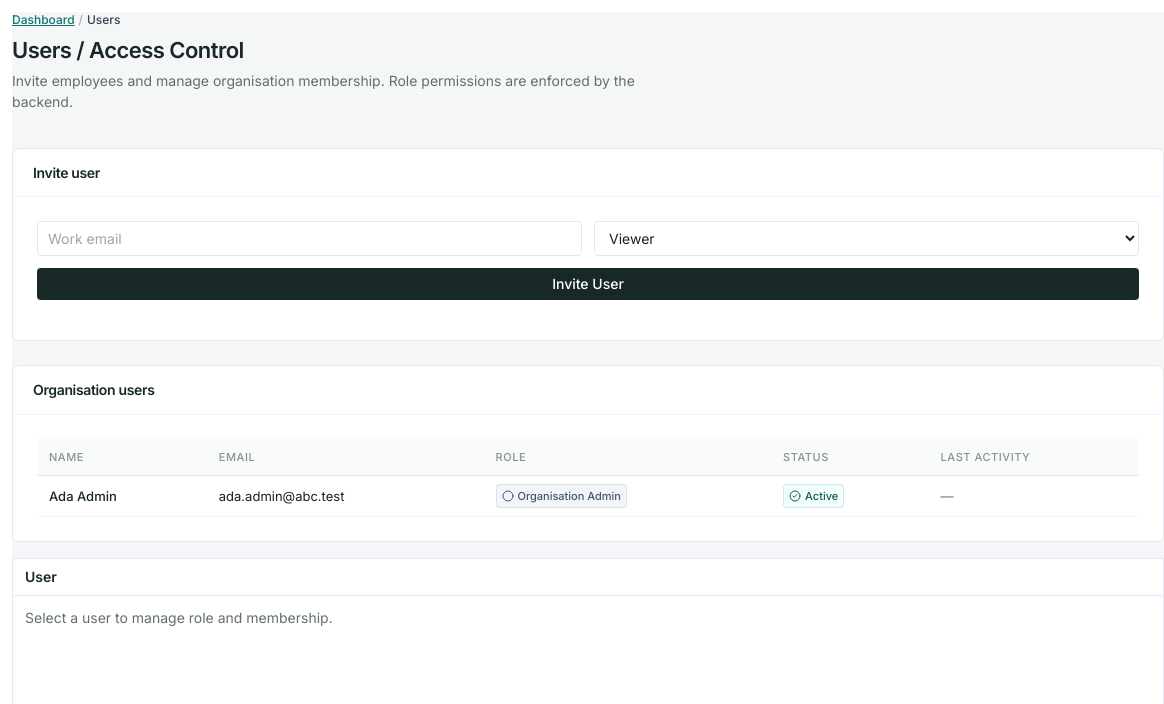
Test: organisation onboarding UI › last-admin protection shows the backend message
Click the text "Ada Admin": (122, 496) [37, 475, 207, 516]
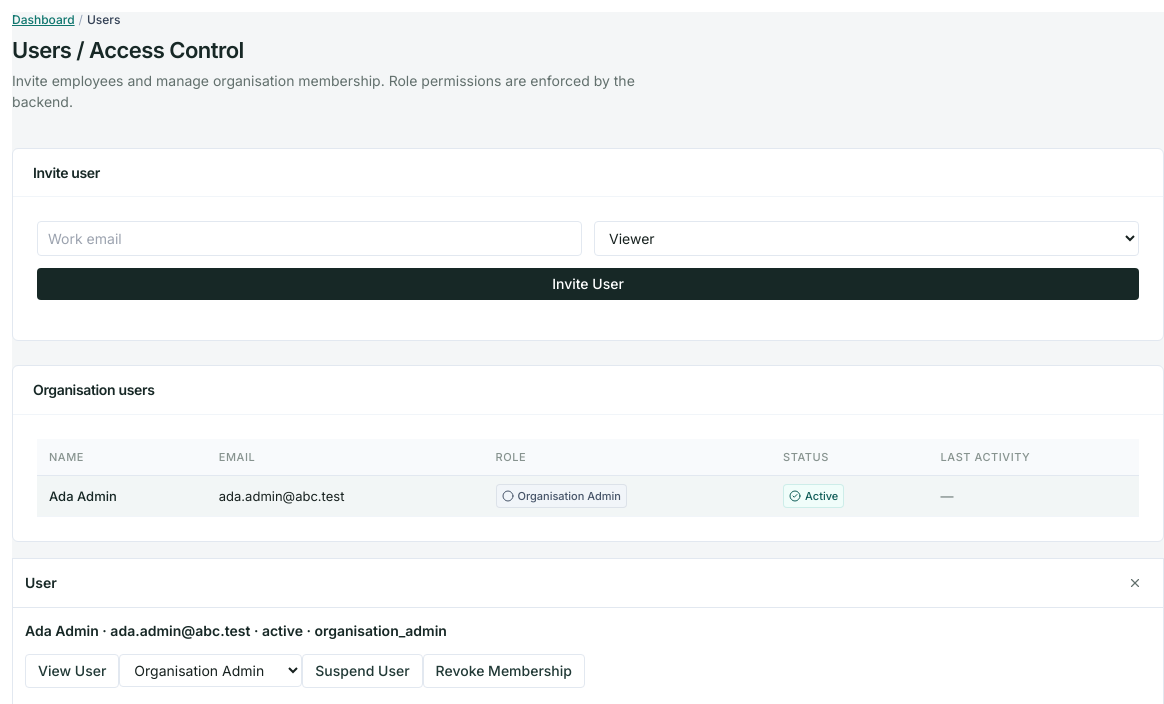
Select "Viewer" in the dropdown named "change role for ada.admin@abc.test": (211, 671) [119, 654, 302, 687]
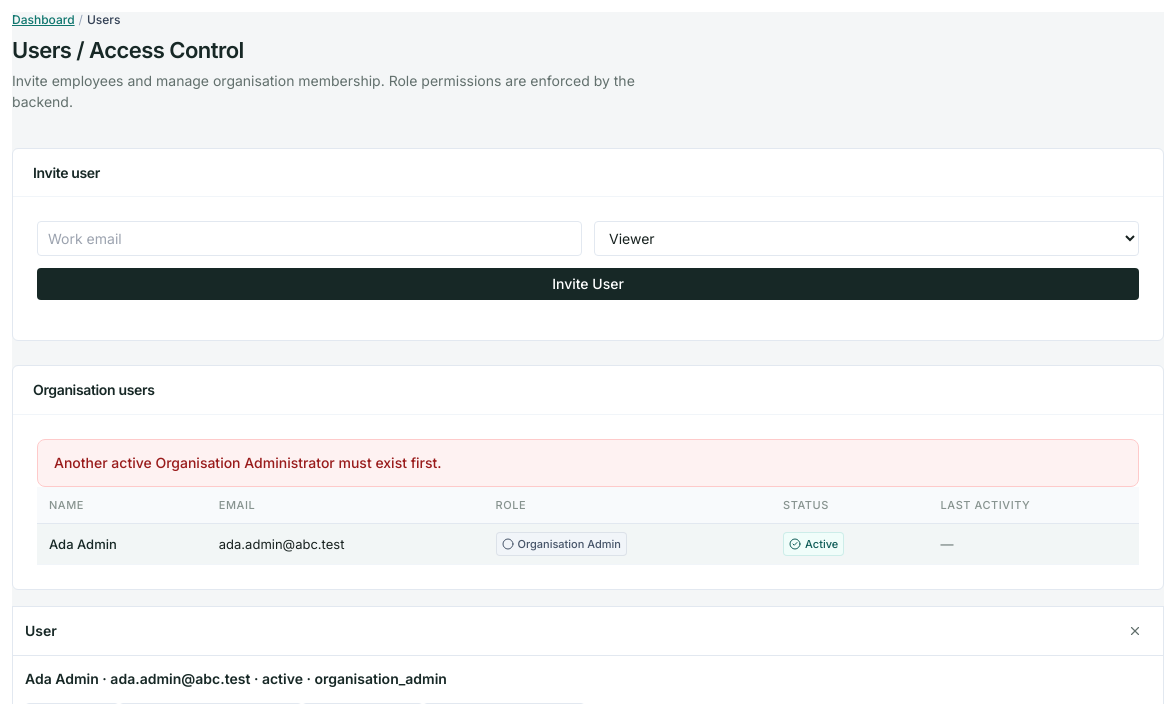
Check: the text "Another active Organisation Administrator must exist first." is shown, box [54, 454, 442, 470]
